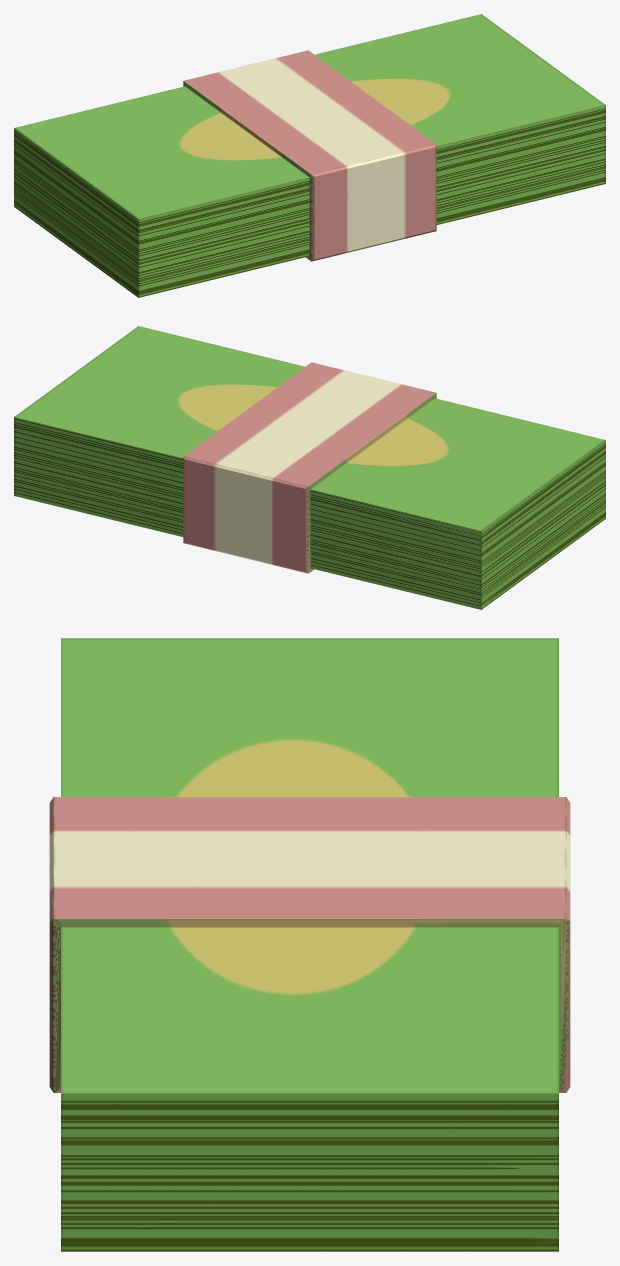
File: satutabadayo.fbx
3 views of the same model, one above another, from view 1: azimuth 30°, elevation 25°; view 2: azimuth 150°, elevation 25°; view 3: azimuth 270°, elevation 25° (orthographic). The views are drawn at different scales.
Parts seen in each view (by area): view 1: pCube1; view 2: pCube1; view 3: pCube1.
Part boxes in pixels (left/top/right/bottom): pCube1: left=14, top=14, right=605, bottom=297; pCube1: left=14, top=326, right=605, bottom=609; pCube1: left=49, top=638, right=570, bottom=1251.
Bounding box in the file's own units: 23.09 × 4.11 × 11.14.
1 material, 1 textured.
